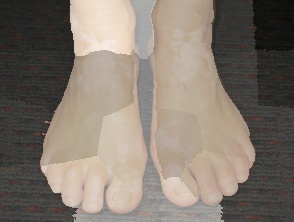vitiligo: (65, 25, 141, 111), (164, 19, 220, 96), (155, 124, 198, 195)
